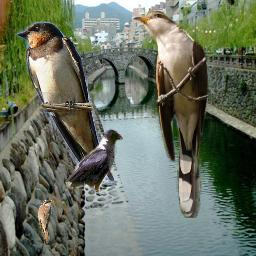Crow: (63, 127, 123, 194)
Cuckoo: (132, 11, 209, 218), (38, 200, 54, 245)
Swallow: (15, 21, 115, 186)
